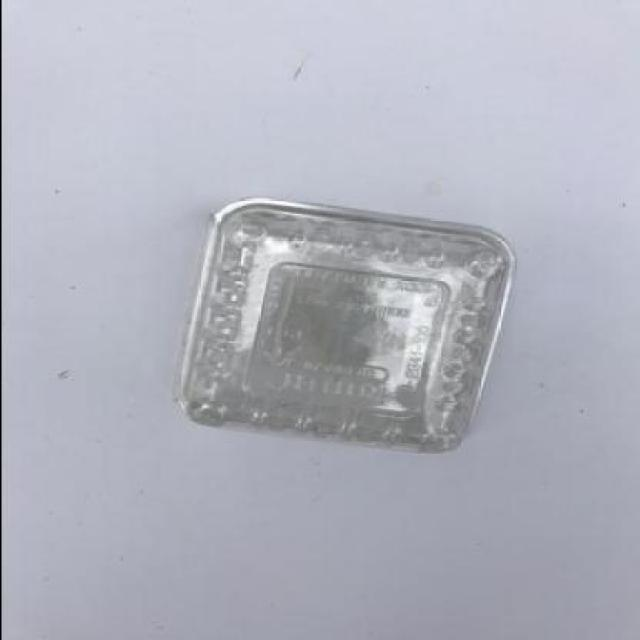PLASTIC: (172, 192, 516, 452)
